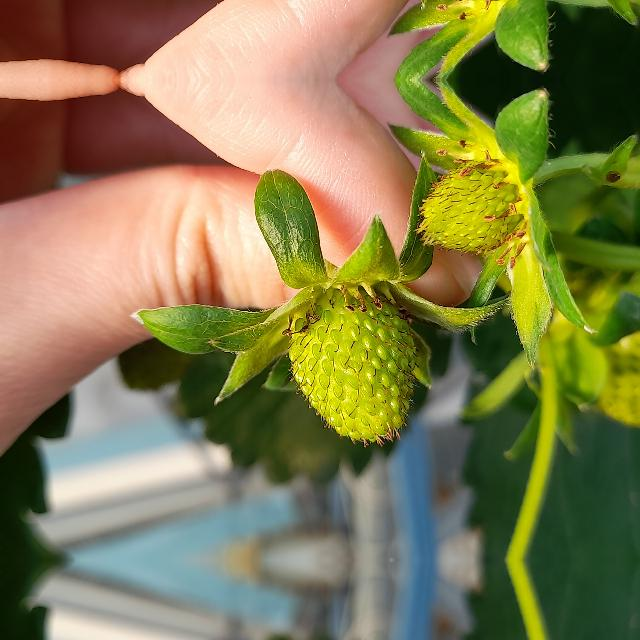Health_25: (286, 287, 418, 447), (412, 154, 524, 254)
